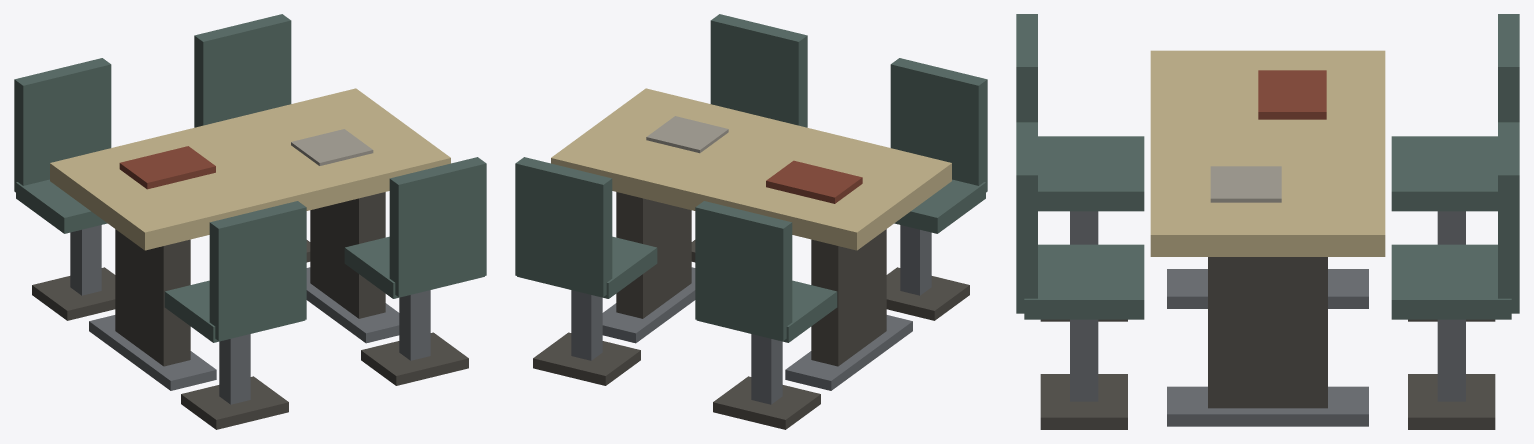
File: prop-meeting-table.glb
3 views of the same model, side by side, from view 1: azimuth 30°, elevation 25°; view 2: azimuth 150°, elevation 25°; view 3: azimuth 270°, elevation 25° (orthographic). The views are drawn at different scales.
Parts seen in each view (by area): view 1: meeting_table; view 2: meeting_table; view 3: meeting_table.
Part boxes in pixels (x1,y1,x2,y2): meeting_table: [14, 14, 486, 429]; meeting_table: [515, 14, 987, 429]; meeting_table: [1016, 14, 1519, 429].
Size of the model in its own units: 0.8 by 0.525 by 0.924.
